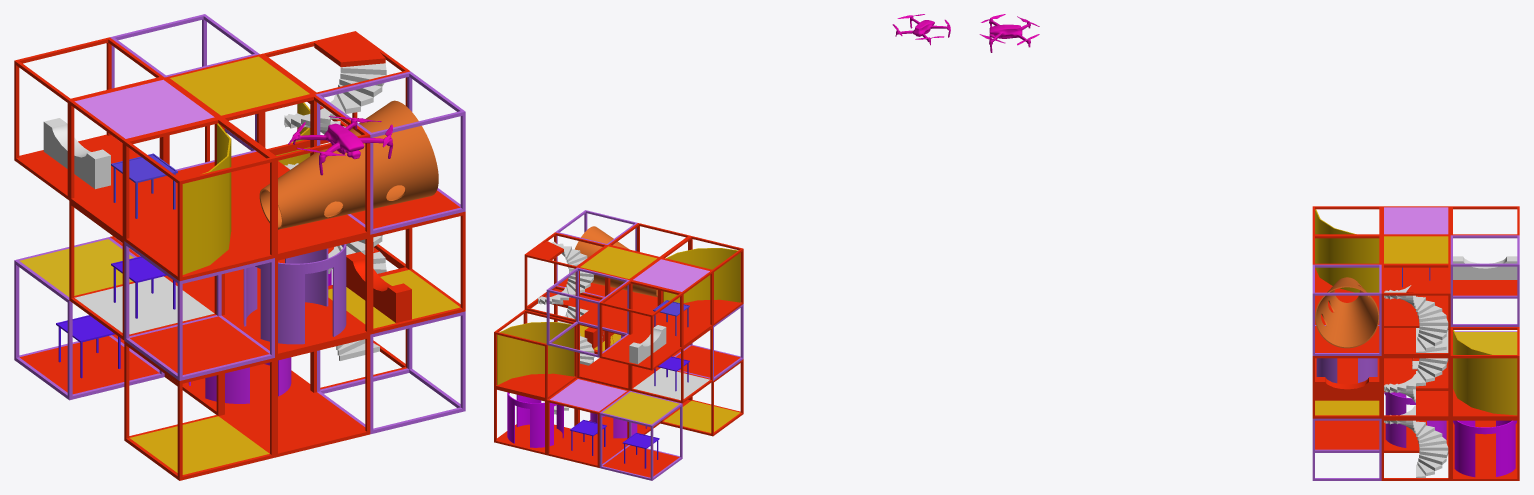
3 renders of one model, left to right at view 1: azimuth 30°, elevation 25°; view 2: azimuth 150°, elevation 25°; view 3: azimuth 270°, elevation 25°, orthographic. The views are drawn at different scales.
Visible parts, largest first — view 1: Empty, Drone; view 2: Empty, Drone; view 3: Empty, Drone.
Part boxes in pixels (bbox=[...]): Empty: bbox=[14, 14, 465, 480]; Drone: bbox=[288, 116, 392, 175]; Empty: bbox=[494, 210, 743, 480]; Drone: bbox=[892, 14, 950, 45]; Empty: bbox=[1312, 206, 1519, 480]; Drone: bbox=[979, 14, 1039, 52].
Size of the model in its own units: 1.21 by 1.52 by 2.18.
